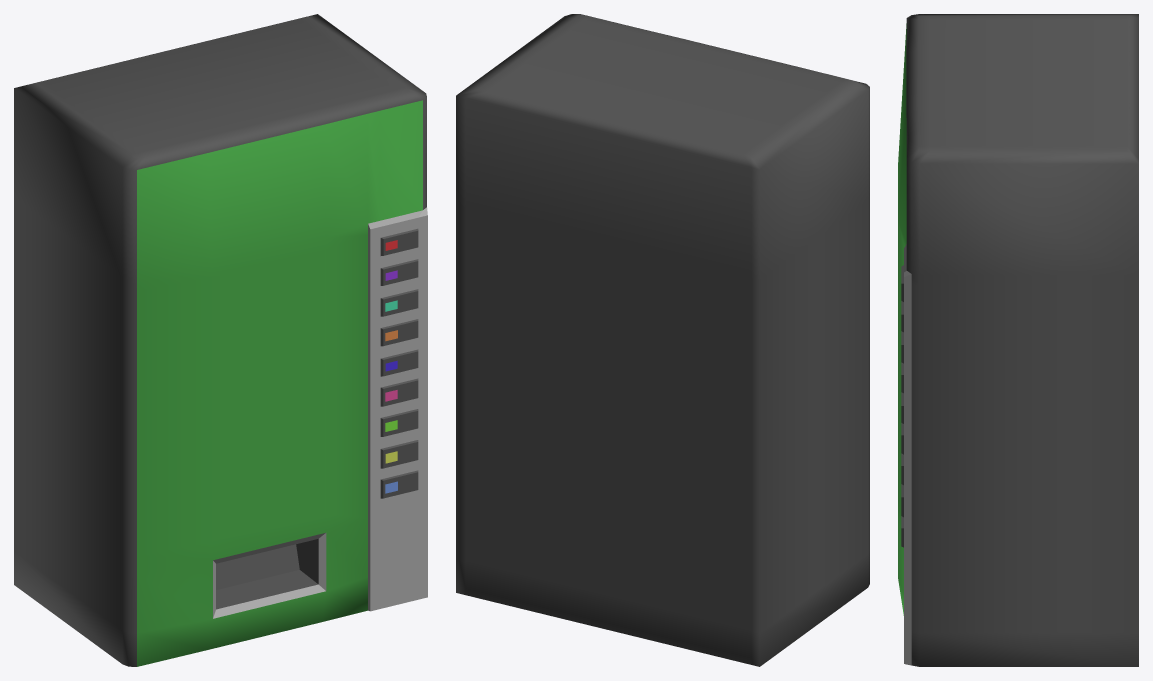
File: VendingMachine.fbx
3 views of the same model, side by side, from view 1: azimuth 30°, elevation 25°; view 2: azimuth 150°, elevation 25°; view 3: azimuth 270°, elevation 25° (orthographic).
Visible parts, largest first — view 1: Cube; view 2: Cube; view 3: Cube.
Part boxes in pixels (box(x1,y1,x2,y2)): Cube: box(14, 14, 427, 666); Cube: box(456, 14, 869, 666); Cube: box(898, 14, 1138, 666).
Bounding box in the file's own units: 306 × 483 × 208.
